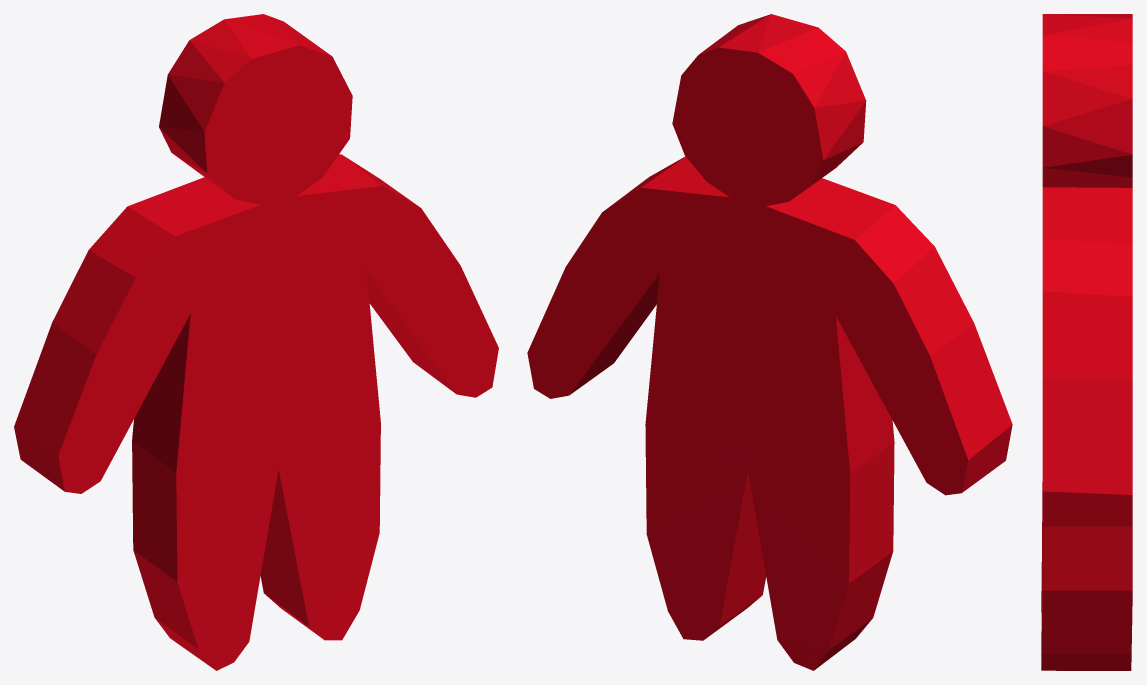
The model's file is meeple_default.fbx.
3 views of the same model, side by side, from view 1: azimuth 30°, elevation 25°; view 2: azimuth 150°, elevation 25°; view 3: azimuth 270°, elevation 25° (orthographic).
Visible parts, largest first — view 1: Meeple; view 2: Meeple; view 3: Meeple.
Boxes of the visible parts, box(x1,y1,x2,y2) form: Meeple: box(14, 14, 498, 670); Meeple: box(527, 14, 1012, 670); Meeple: box(1041, 14, 1132, 670).
Size of the model in its own units: 52.83 by 69.4 by 9.35.
